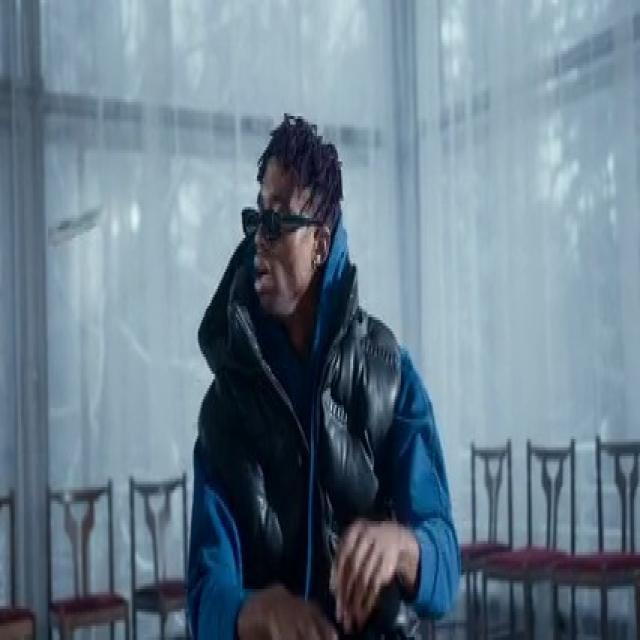Jacket_Wearer: (206, 253, 410, 632)
Person: (178, 130, 476, 640)
